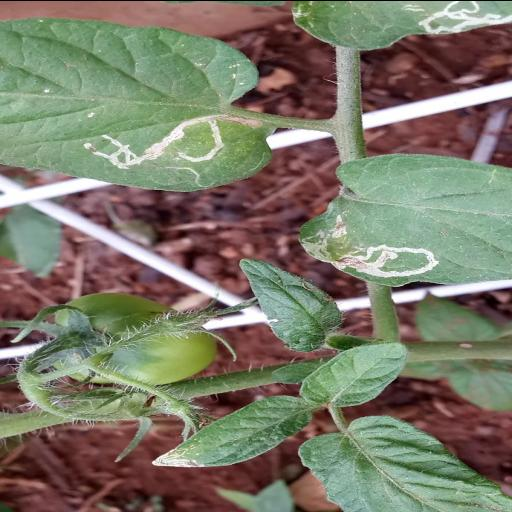disease_tomato: (0, 18, 272, 194), (293, 153, 512, 287)
